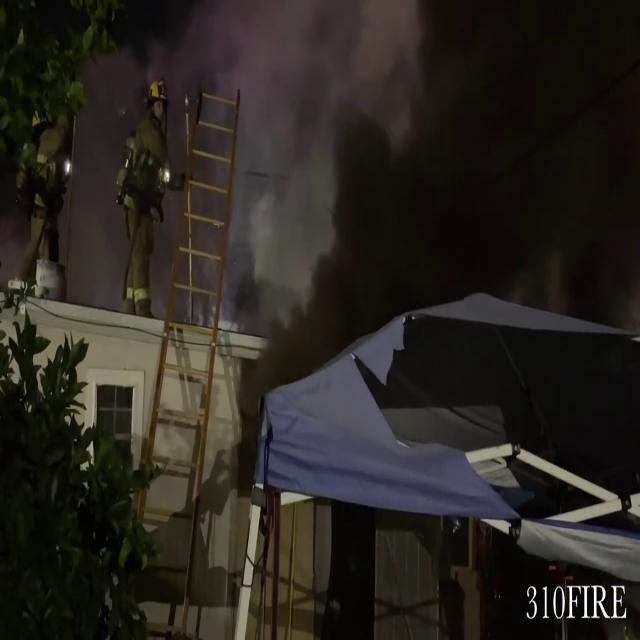Smoke: (104, 0, 636, 321)
